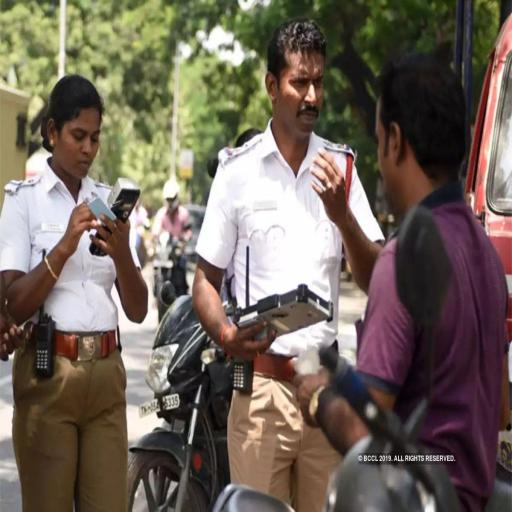overloading: (3, 16, 506, 506)
